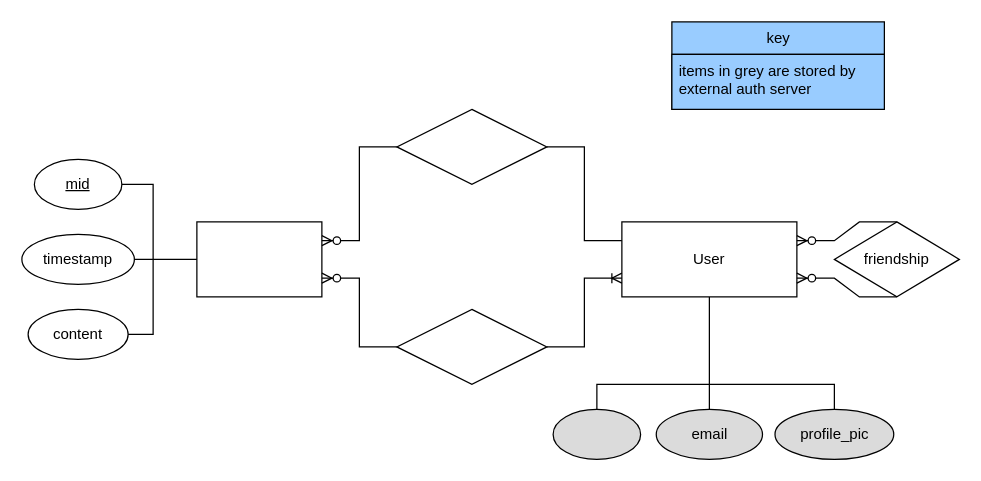
The diagram is 981 pixels wide and 481 high, and some of its shapes have lost their labels. The shapes that lost their labels are listed below. From the top down, each one's box as (x1, y1, x2, y2) in pixels, then its label:
(396, 108, 547, 184): creation
(196, 221, 322, 297): Message
(396, 308, 547, 384): reception
(552, 408, 641, 459): uid
